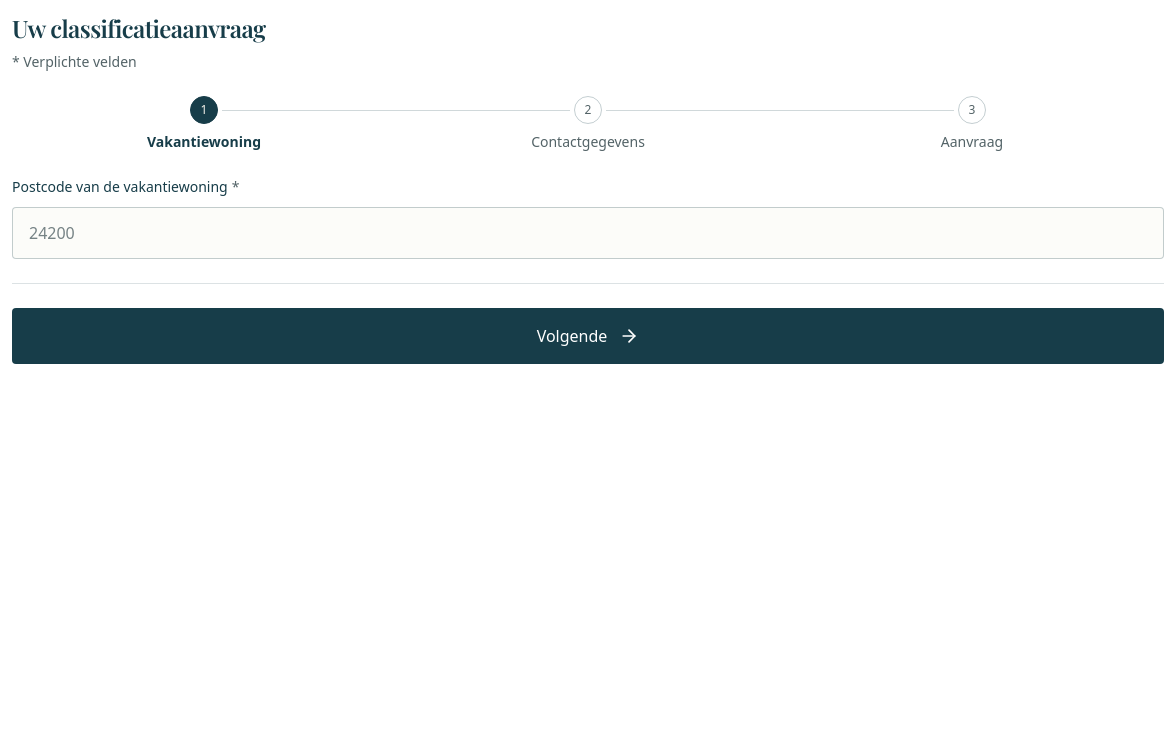
Test: étape Logement › stays blocked with retry and phone when the API is down: nl
In the field labelled "Postcode van de vakantiewoning*": (588, 233) x1=12 y1=207 x2=1164 y2=259, type "24150"
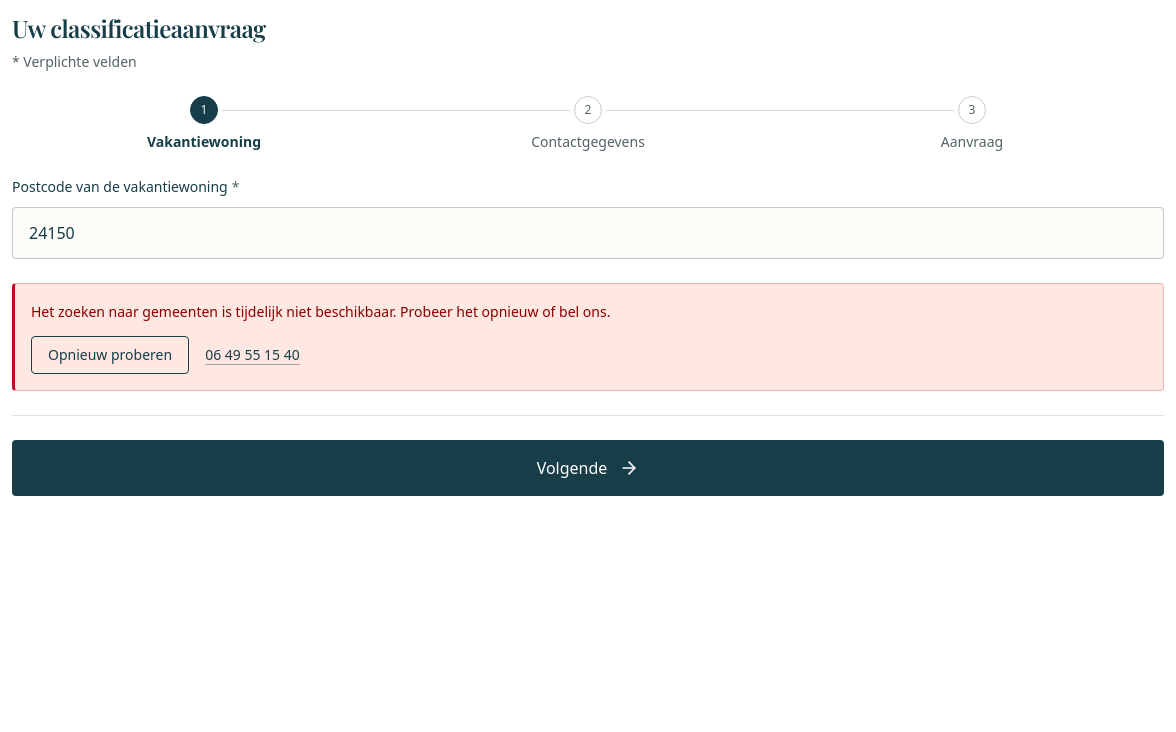
expect the message shows "Het zoeken naar gemeenten is tijdelijk niet beschikbaar. Probeer het opnieuw of bel ons.": met, box x1=31 y1=302 x2=610 y2=321
expect the link to "tel:+33649551540" is shown: met, box x1=205 y1=344 x2=300 y2=364
Click the button "Volgende": (588, 468) x1=12 y1=440 x2=1164 y2=496
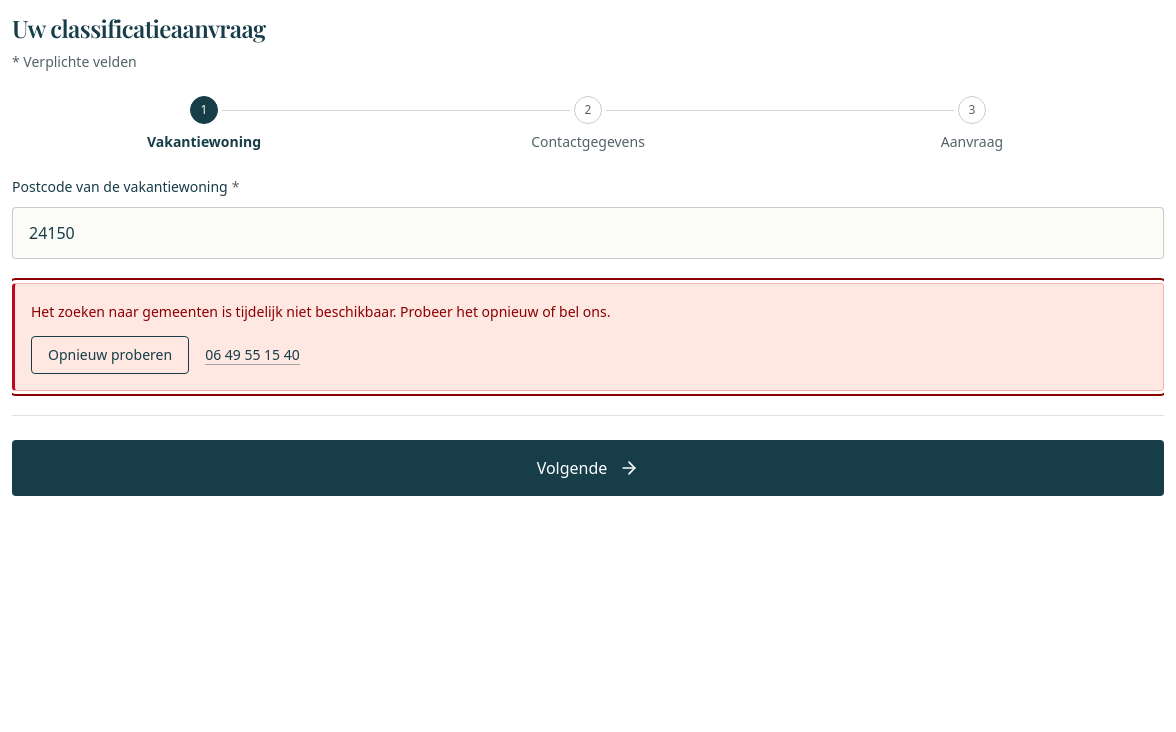
expect the list item "1 Vakantiewoning" is shown: met, box x1=147 y1=96 x2=261 y2=151
Click the button "Opnieuw proberen": (110, 354) x1=31 y1=336 x2=189 y2=374
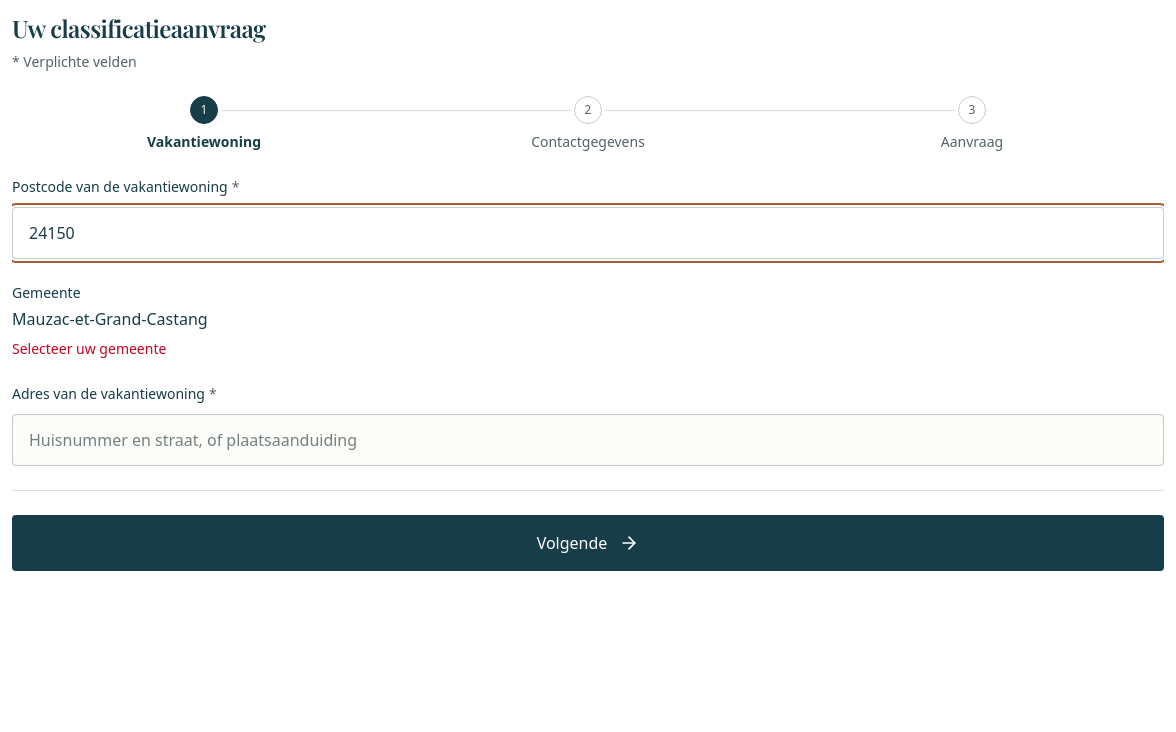
expect the text "Mauzac-et-Grand-Castang" is shown: met, box x1=12 y1=308 x2=208 y2=330
expect the text "Het zoeken naar gemeenten is tijdelijk niet beschikbaar. Probeer het opnieuw of bel ons." is gone: met
